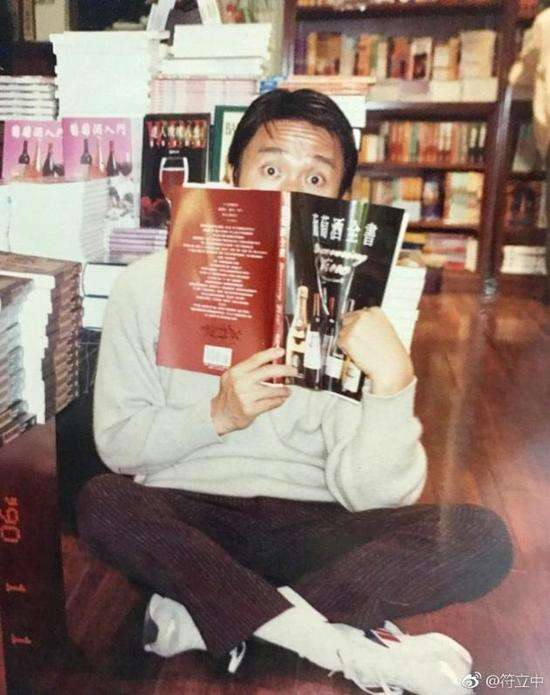book: (141, 170, 427, 431)
